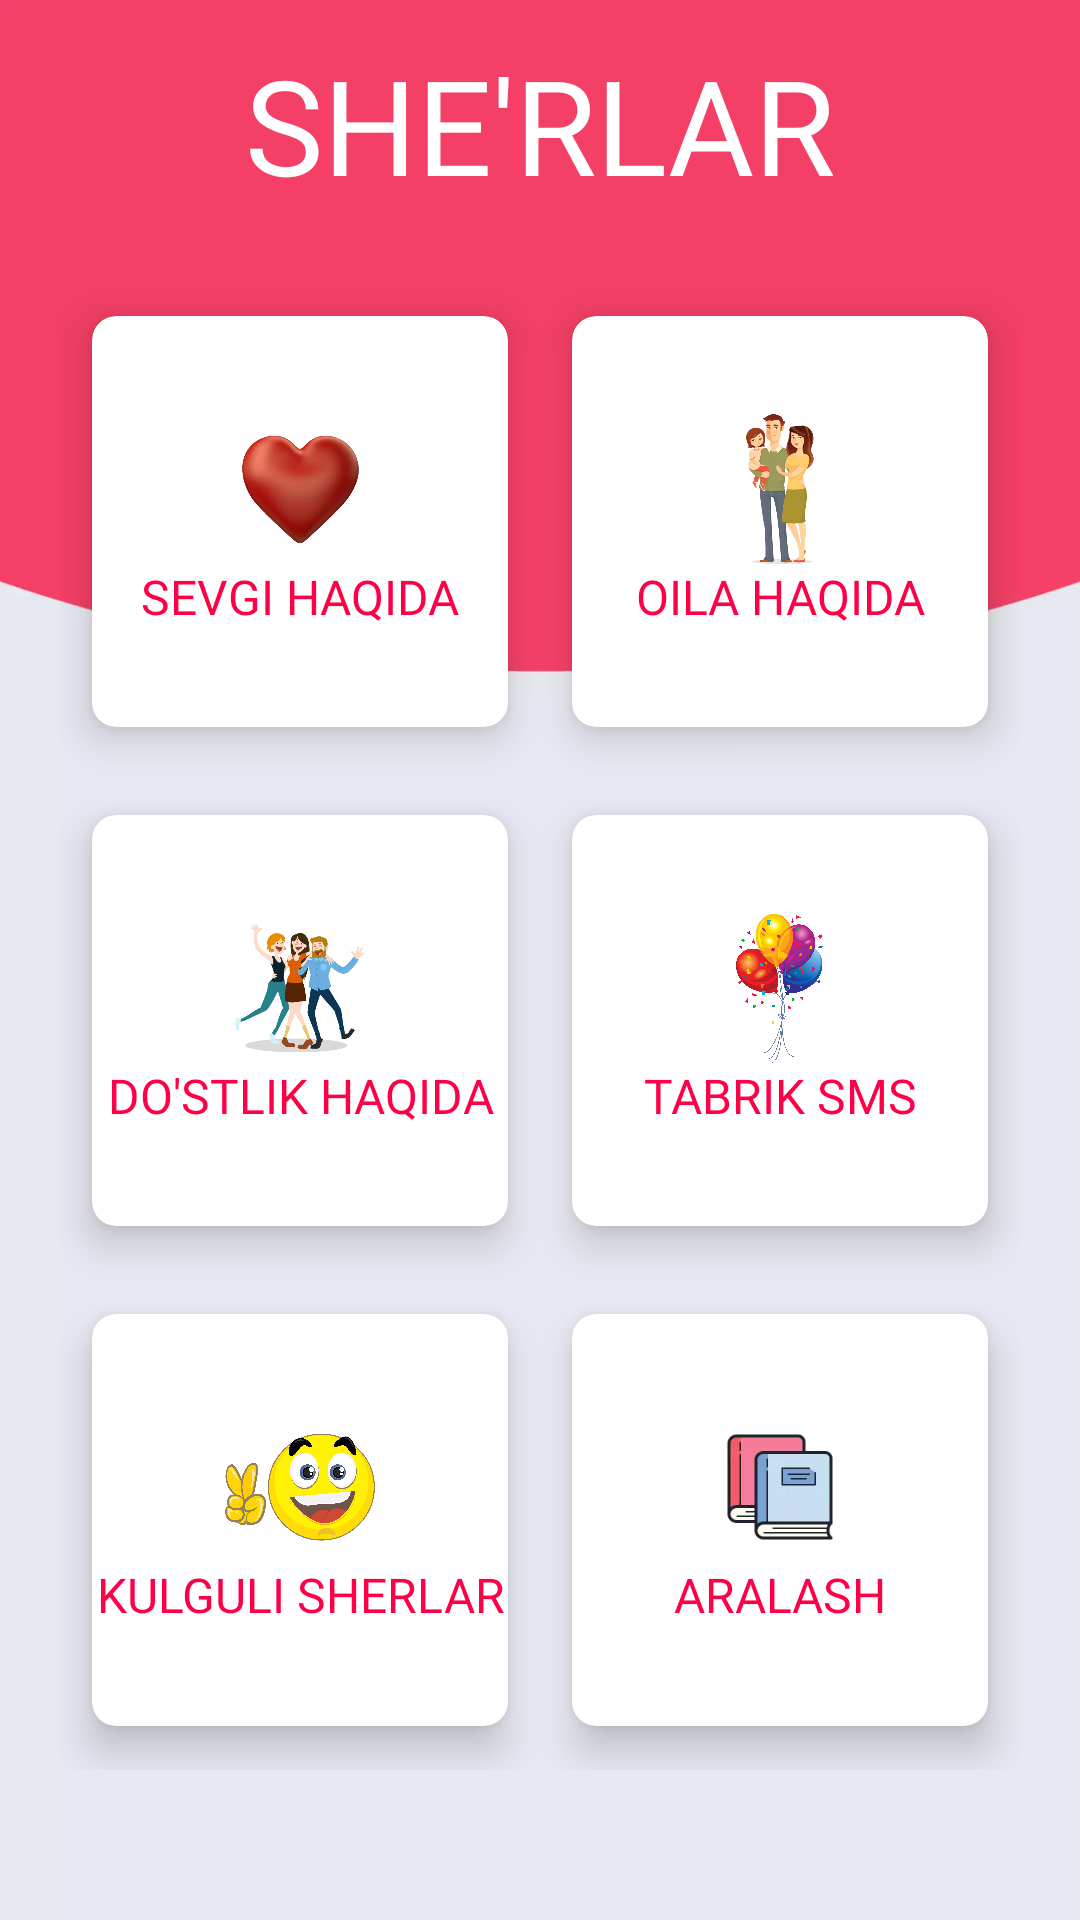

Screen size 1080px×1920px. Icon name, then its center in pixels as [x,y]:
baloon: [779,988]
books: [780,1487]
friends: [300,988]
heart: [300,489]
parents: [780,489]
smile: [300,1487]
